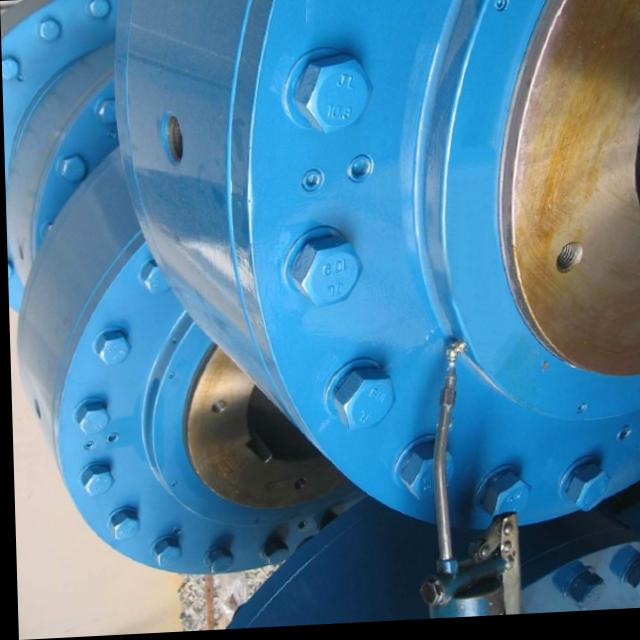Regular bolt: (296, 55, 376, 138), (290, 237, 362, 312), (331, 368, 392, 432), (400, 451, 453, 503), (560, 468, 611, 519), (480, 479, 532, 523), (563, 579, 604, 614), (72, 402, 107, 437), (138, 262, 172, 297), (79, 463, 112, 499), (94, 334, 129, 365), (105, 511, 138, 541), (258, 542, 289, 571), (151, 539, 182, 568), (58, 155, 89, 183), (204, 550, 232, 576), (96, 96, 122, 124), (622, 560, 640, 596), (2, 54, 22, 83), (39, 20, 62, 42), (91, 1, 111, 18)
